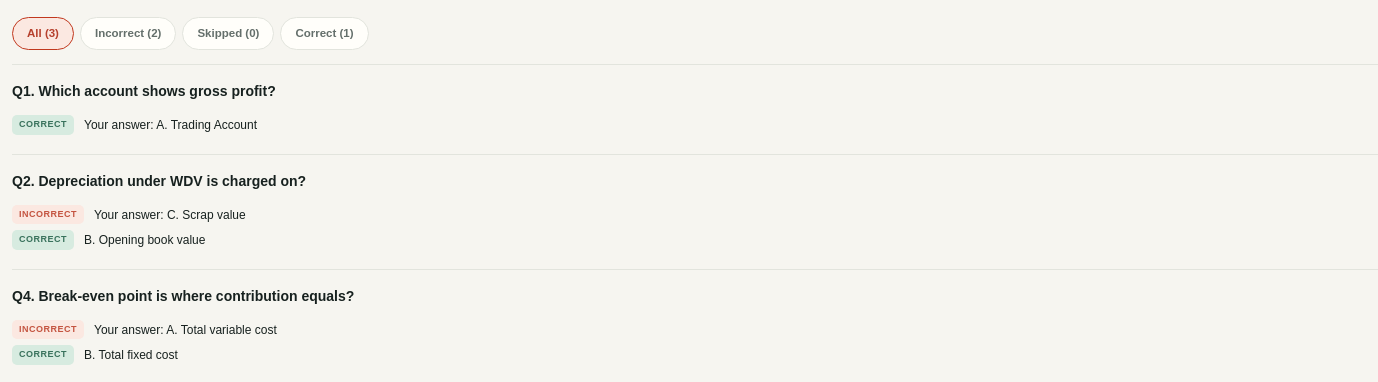
ResultQuestionList › explains an empty category rather than showing a blank panel
Click the button "Skipped (0)". click: (228, 34)
box: [182,17,274,50]
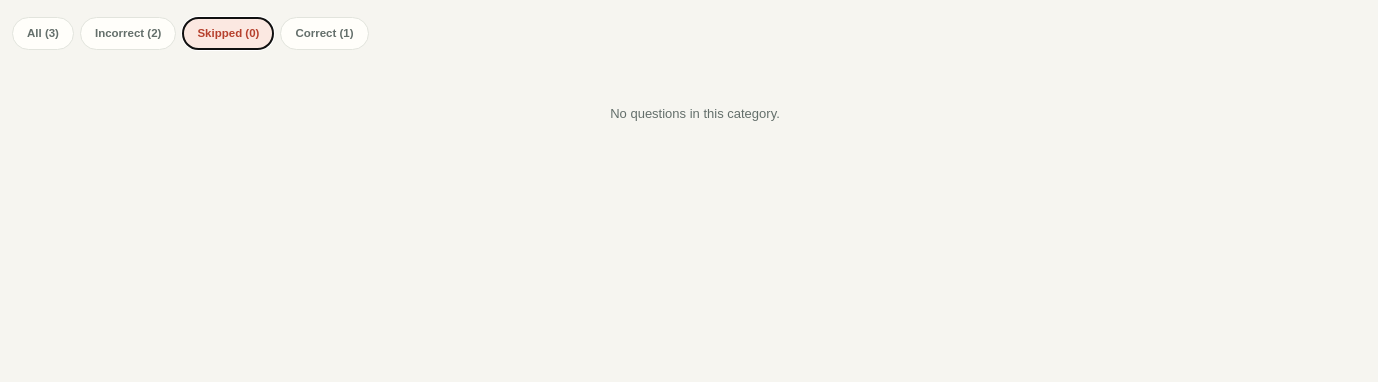
Result: the text "No questions in this category." is shown at [610,106,780,121]
